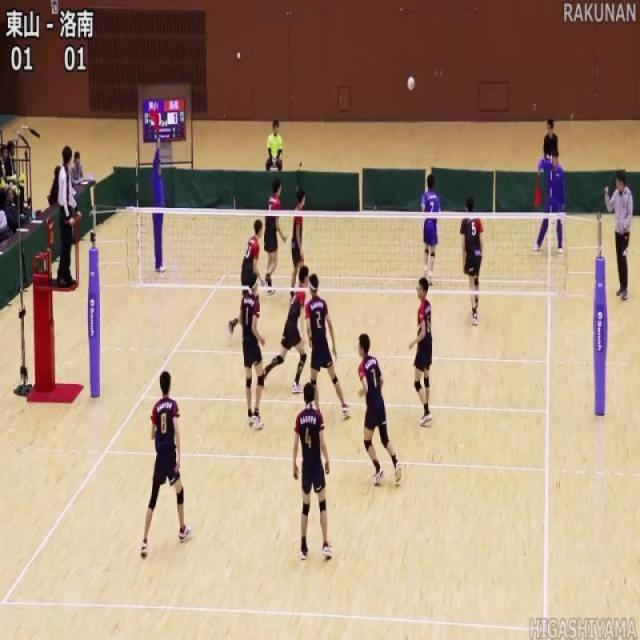volleyball: (406, 75, 416, 92)
